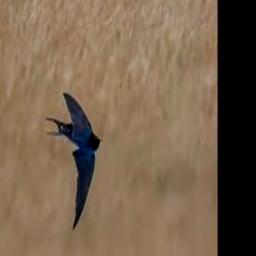Swallow: (46, 95, 101, 231)
